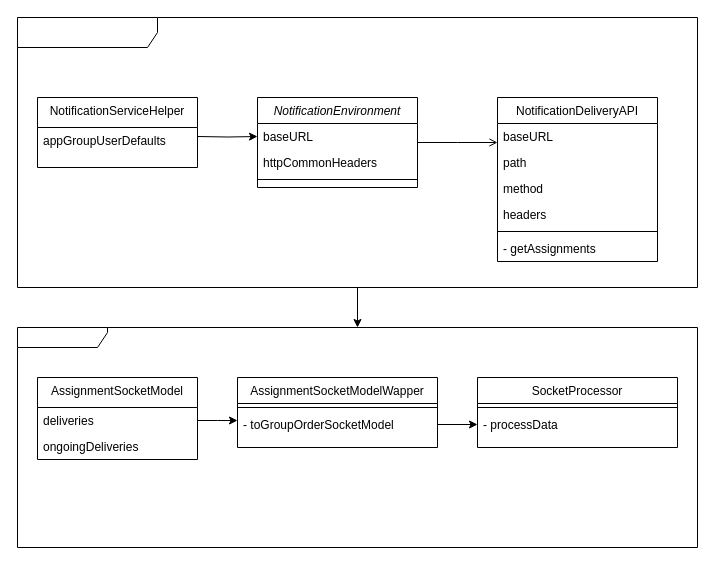
Image size: 715x565. Some labels were removed from this diagram. Here are the shapes that lost their labels. From the top down, the centre of each, then its label:
(x=357, y=152): NotificationExtension
(x=357, y=437): DriverApp
